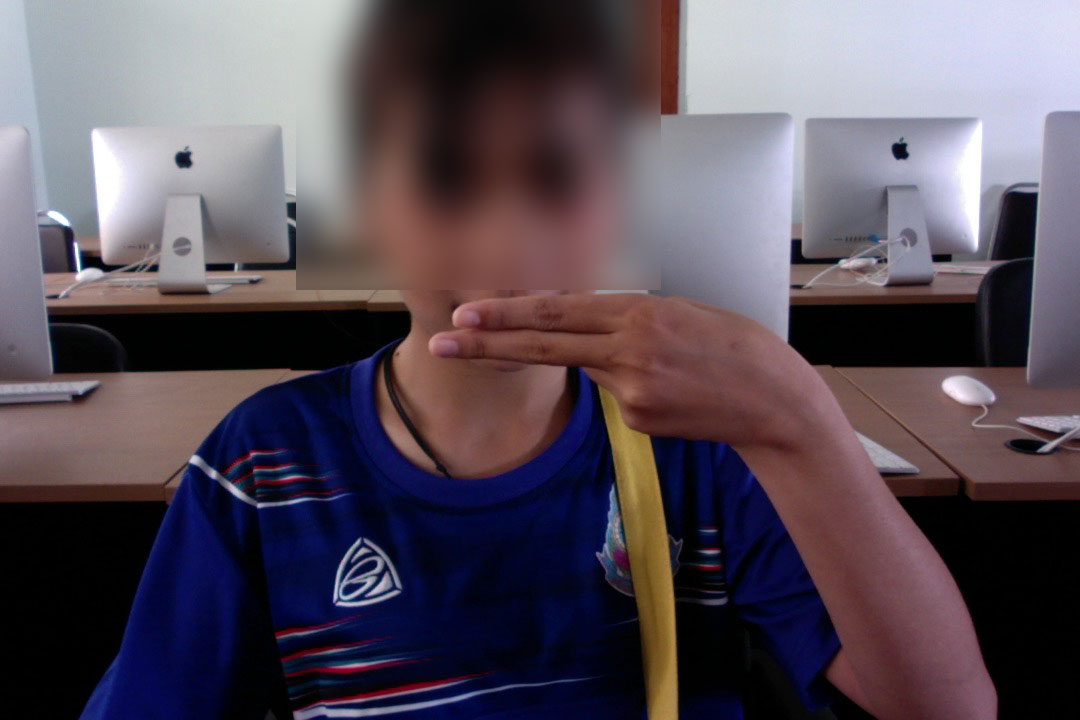hor: (412, 285, 831, 453)
